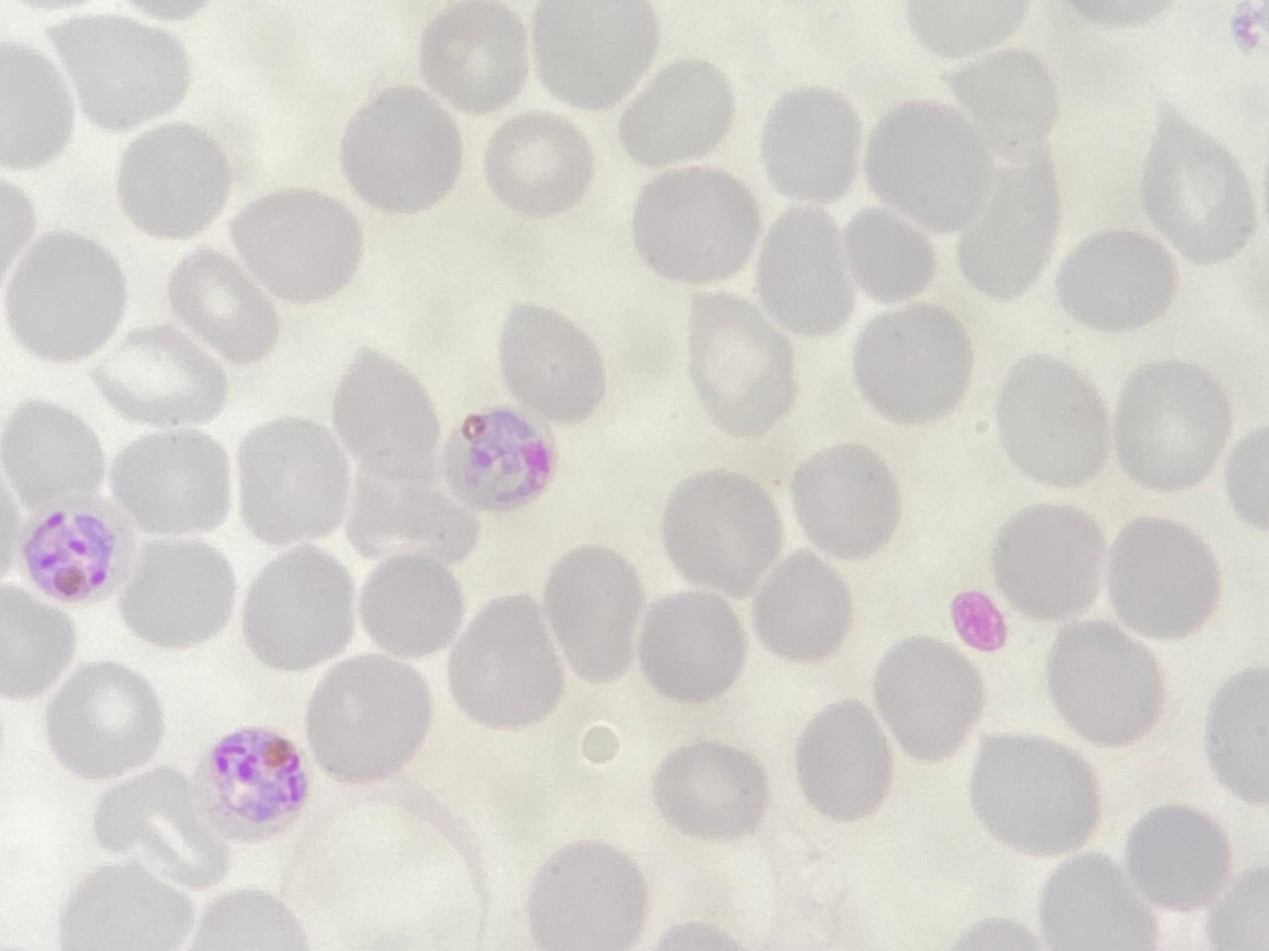Infected: (23, 493, 141, 606), (203, 726, 313, 838), (441, 408, 556, 513)
Uninfected: (1145, 95, 1261, 264), (683, 274, 805, 431), (42, 12, 196, 133), (866, 97, 1007, 228), (659, 463, 790, 602), (972, 724, 1106, 858), (343, 81, 468, 219), (93, 760, 227, 886), (312, 656, 438, 789), (8, 227, 132, 362), (1117, 358, 1235, 494), (451, 592, 565, 732), (91, 318, 235, 426), (635, 159, 760, 283), (238, 417, 354, 550), (235, 187, 363, 307), (1053, 607, 1165, 744), (861, 298, 976, 430), (1001, 352, 1108, 493), (753, 209, 869, 338), (782, 440, 903, 562), (874, 635, 992, 760), (335, 351, 445, 483), (1110, 516, 1222, 644), (46, 665, 166, 783), (243, 544, 355, 668), (1056, 223, 1182, 333), (532, 2, 659, 111), (114, 127, 236, 240), (171, 245, 281, 368), (996, 504, 1106, 627), (111, 433, 233, 542), (554, 544, 648, 683), (418, 0, 532, 114), (527, 840, 644, 951), (798, 699, 899, 825), (500, 302, 609, 418), (643, 587, 749, 706), (124, 536, 236, 648), (1036, 853, 1162, 951), (653, 741, 771, 845), (765, 79, 864, 201), (484, 105, 591, 217), (1127, 807, 1234, 916), (64, 863, 196, 951), (621, 55, 729, 162), (0, 397, 113, 497), (757, 549, 853, 665), (362, 557, 466, 657), (854, 207, 941, 305), (962, 55, 1057, 142)
